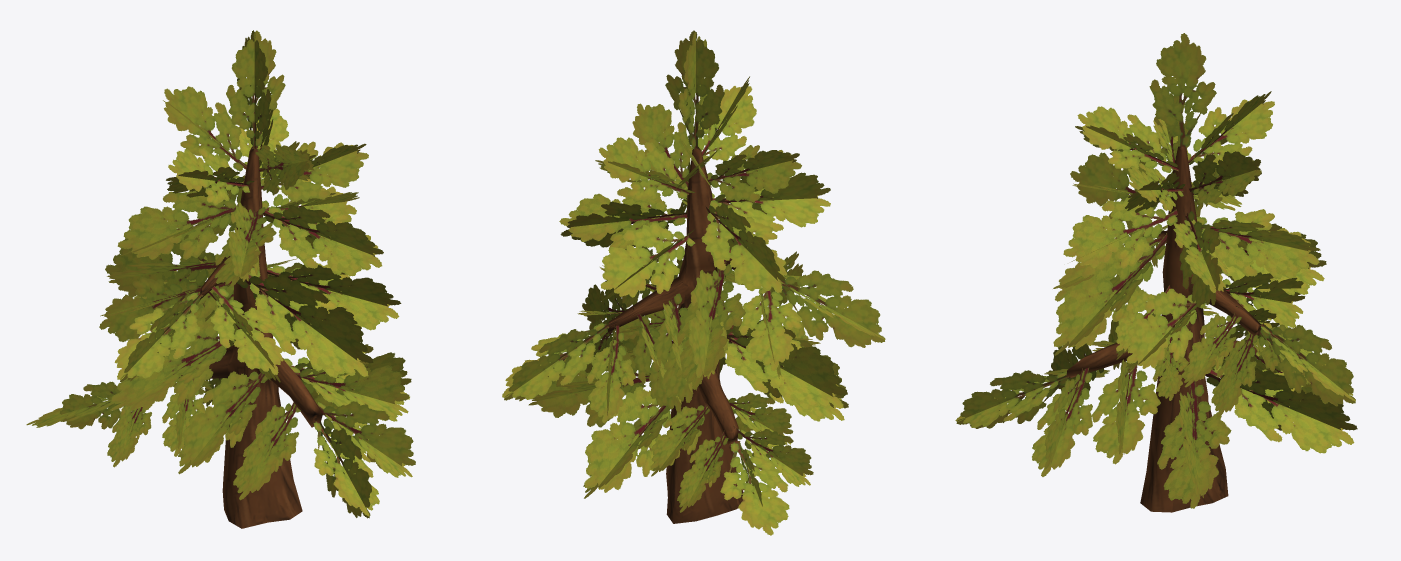
File: tree1_02.fbx
3 views of the same model, side by side, from view 1: azimuth 30°, elevation 25°; view 2: azimuth 150°, elevation 25°; view 3: azimuth 270°, elevation 25° (orthographic). The views are drawn at different scales.
Parts seen in each view (by area): view 1: polySurface3, pPlane26, pPlane61, pPlane60, pPlane15, pPlane31, pPlane10, pPlane53, pPlane75, pPlane1, pPlane58, pPlane78 (+36 smaller); view 2: polySurface3, pPlane47, pPlane11, pPlane34, pPlane6, pPlane27, pPlane54, pPlane57, pPlane12, pPlane1, pPlane32, pPlane52 (+32 smaller); view 3: polySurface3, pPlane30, pPlane60, pPlane84, pPlane3, pPlane35, pPlane46, pPlane5, pPlane63, pPlane81, pPlane21, pPlane47 (+32 smaller).
Boxes of the visible parts, x1,y1,x2,y2 form: polySurface3: (179,146,322,528); pPlane26: (117,188,238,259); pPlane61: (248,267,368,377); pPlane60: (237,274,373,363); pPlane15: (164,86,246,171); pPlane31: (262,206,382,276); pPlane10: (114,292,203,379); pPlane53: (111,317,234,410); pPlane75: (179,371,265,466); pPlane1: (226,30,285,148); pPlane58: (210,286,283,374); pPlane78: (318,401,415,468); polySurface3: (607,147,743,523); pPlane47: (584,386,670,492); pPlane11: (780,270,885,347); pPlane34: (600,222,695,297); pPlane6: (720,441,789,535); pPlane27: (701,200,787,292); pPlane54: (673,260,745,388); pPlane57: (738,286,802,371); pPlane12: (598,137,688,200); pPlane1: (665,30,724,148); pPlane32: (559,187,687,248); pPlane52: (725,333,843,410); polySurface3: (1066,146,1261,512); pPlane30: (1063,197,1177,268); pPlane60: (1053,233,1167,349); pPlane84: (1157,380,1231,508); pPlane3: (1149,33,1216,146); pPlane35: (1196,209,1319,279); pPlane46: (1209,366,1354,453); pPlane5: (1260,323,1355,406); pPlane63: (1126,288,1205,368); pPlane81: (1091,364,1160,464); pPlane21: (1077,106,1178,172); pPlane47: (1205,368,1357,430).
Bounding box in the file's own units: 988 × 1207 × 1060.
